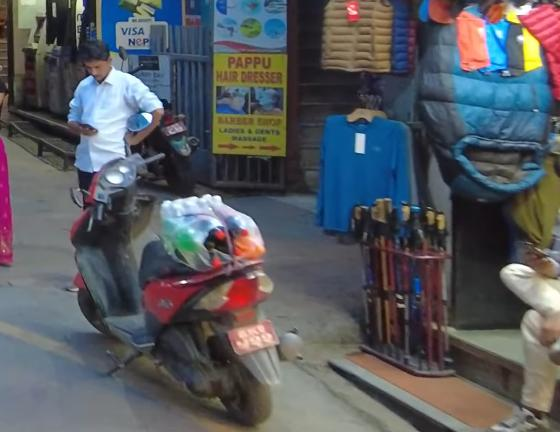scooter: (58, 110, 304, 432)
